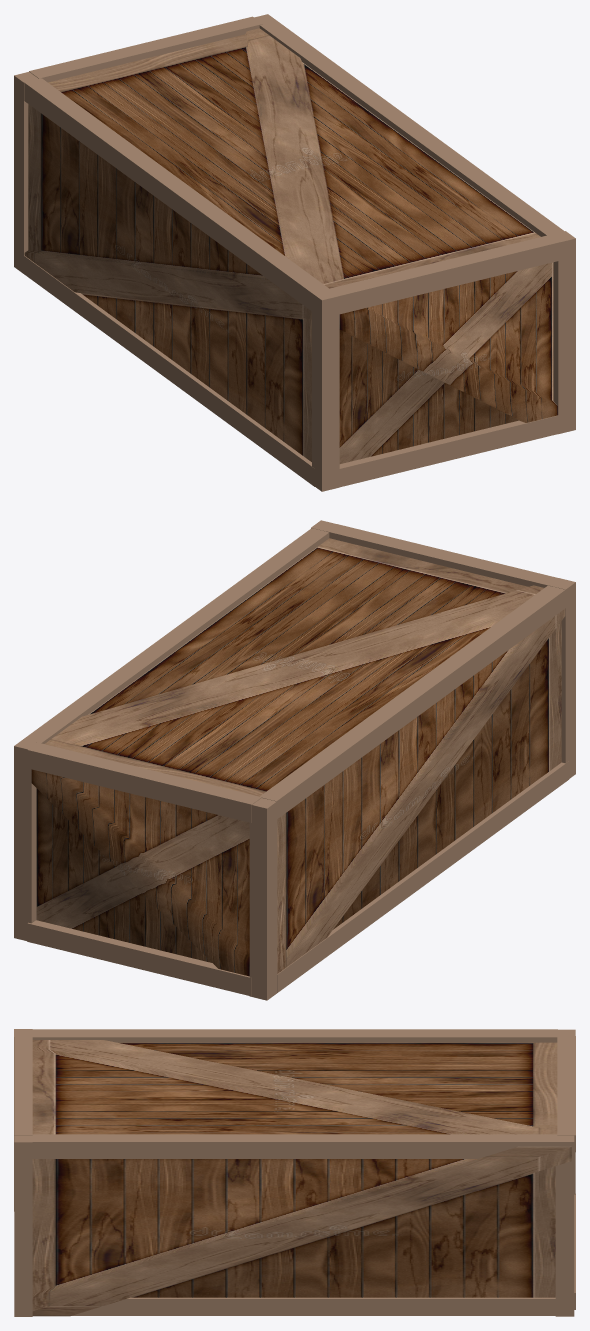
Rendered from crate for game.fbx.
3 renders of one model, top to bottom at view 1: azimuth 30°, elevation 25°; view 2: azimuth 150°, elevation 25°; view 3: azimuth 270°, elevation 25°, orthographic. The views are drawn at different scales.
Parts seen in each view (by area): view 1: pasted__Crate w/ bones4; view 2: pasted__Crate w/ bones4; view 3: pasted__Crate w/ bones4.
Boxes of the visible parts, x1,y1,x2,y2 form: pasted__Crate w/ bones4: (14,14,575,491); pasted__Crate w/ bones4: (14,520,575,1000); pasted__Crate w/ bones4: (14,1029,575,1316).
Size of the model in its own units: 144 by 104 by 303.
